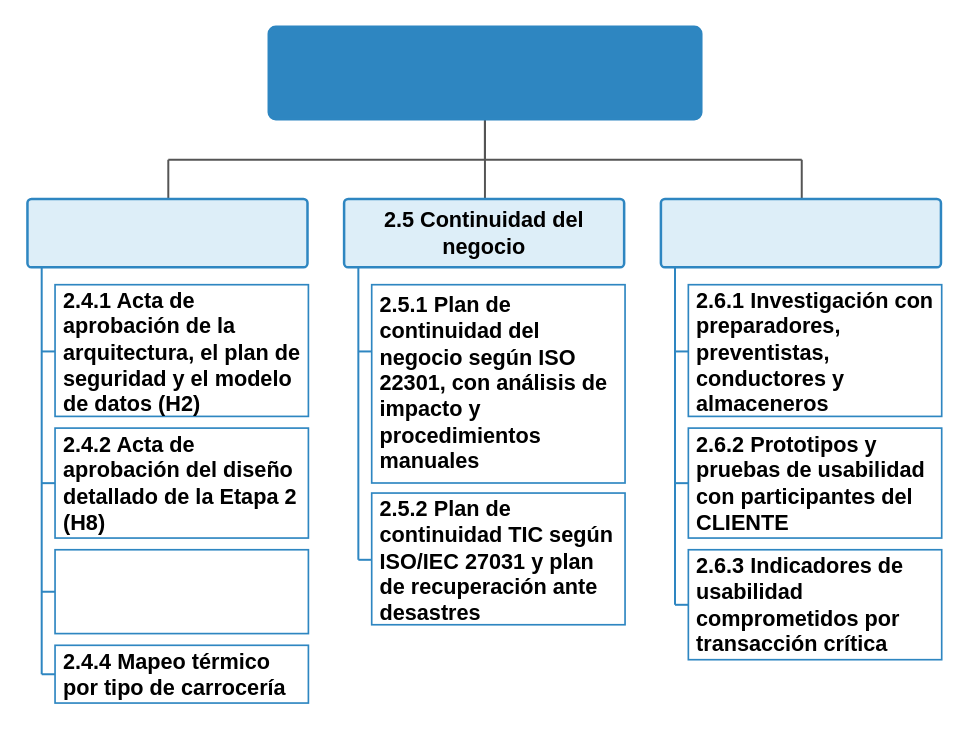
The diagram is 968 pixels wide and 731 high, and some of its shapes have lost their labels. The shapes that lost their labels are listed below. From the top down, each one's box as (x1, y1, x2, y2) in pixels, then its label:
(267, 25, 702, 120): 2. Elaboración
(26, 197, 308, 268): 2.4 Validación de diseños
(659, 197, 942, 268): 2.6 Experiencia de usuario
(53, 548, 308, 634): 2.4.3 Validación del diseño del kit en banco de pruebas
